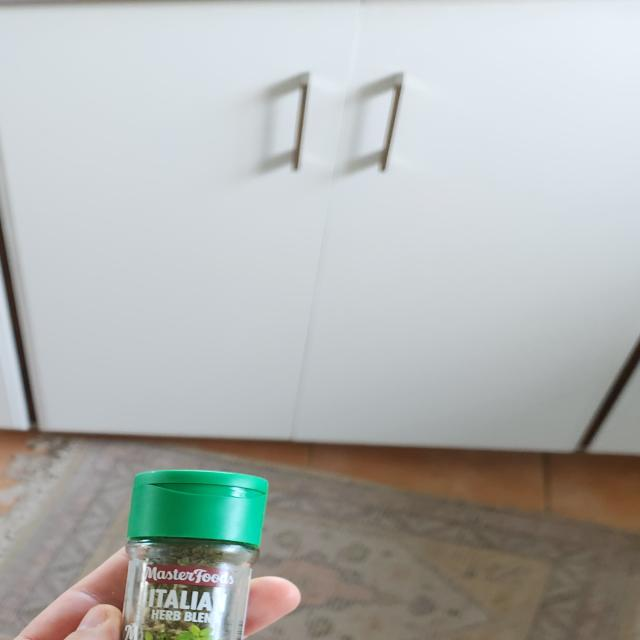italian herbs: (110, 469, 270, 640)
